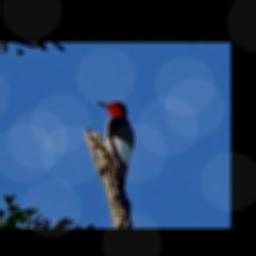Woodpecker: (90, 93, 144, 208)
